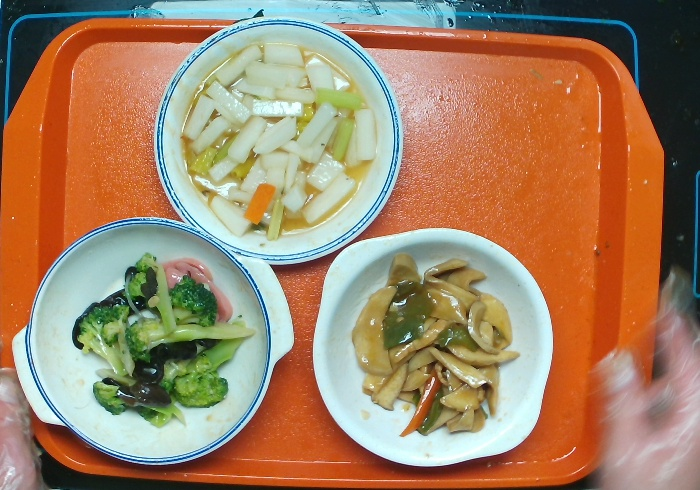HZYJPL-Dai_Er_Bai_Yuan_Wan: (307, 222, 555, 473)
HZYJPL-Lan_Bian_Dai_Er_Wan: (7, 211, 293, 483)
HZYJPL-Lan_Bian_Yuan_Die: (154, 13, 403, 269)
